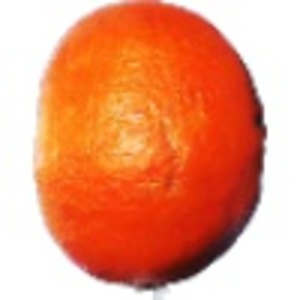tangerina: (30, 1, 269, 300)
